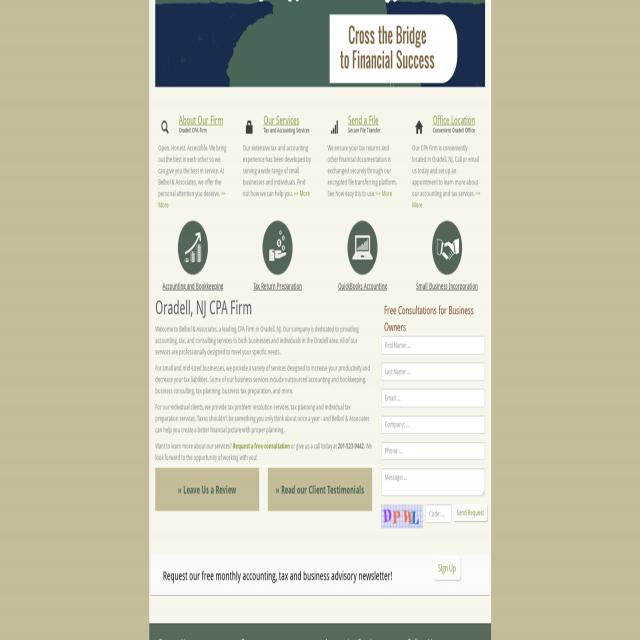button: (155, 0, 484, 86), (156, 468, 260, 510), (268, 468, 372, 510), (178, 221, 208, 275), (263, 221, 293, 275), (347, 221, 377, 275), (432, 221, 462, 275), (381, 504, 423, 529), (433, 557, 461, 580), (453, 504, 487, 521)
field: (381, 468, 485, 496), (381, 336, 485, 354), (381, 363, 485, 381), (381, 390, 485, 408), (381, 416, 485, 434), (381, 442, 485, 460), (425, 504, 451, 522)
